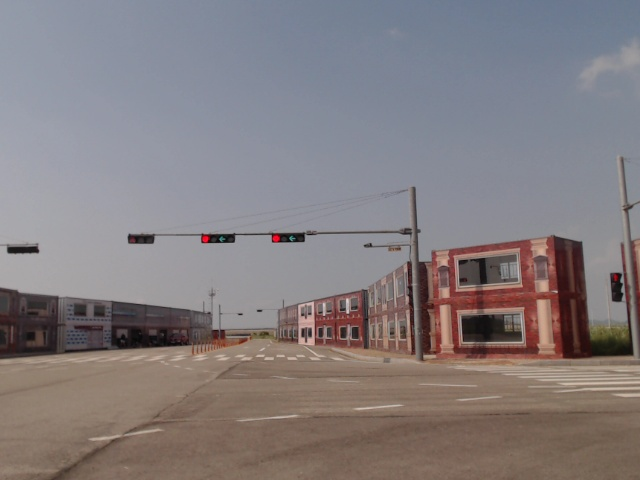left_green_4: (201, 235, 234, 243), (272, 234, 304, 242)
